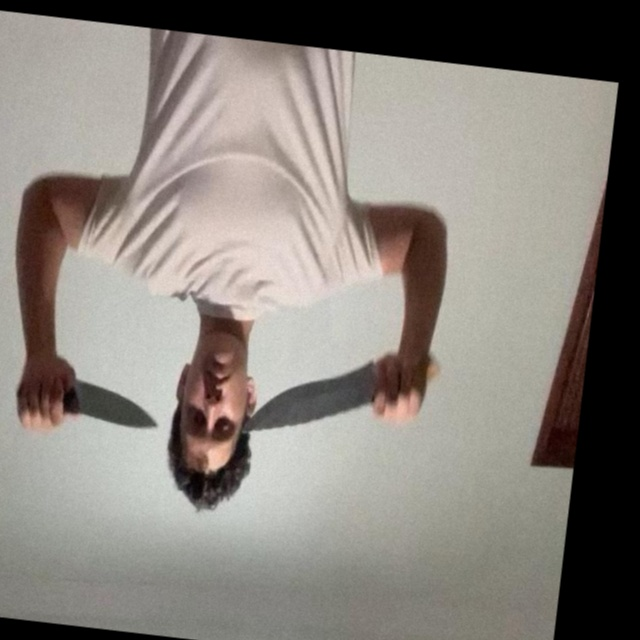Sharp-Object: (241, 351, 379, 450), (73, 380, 162, 429)
